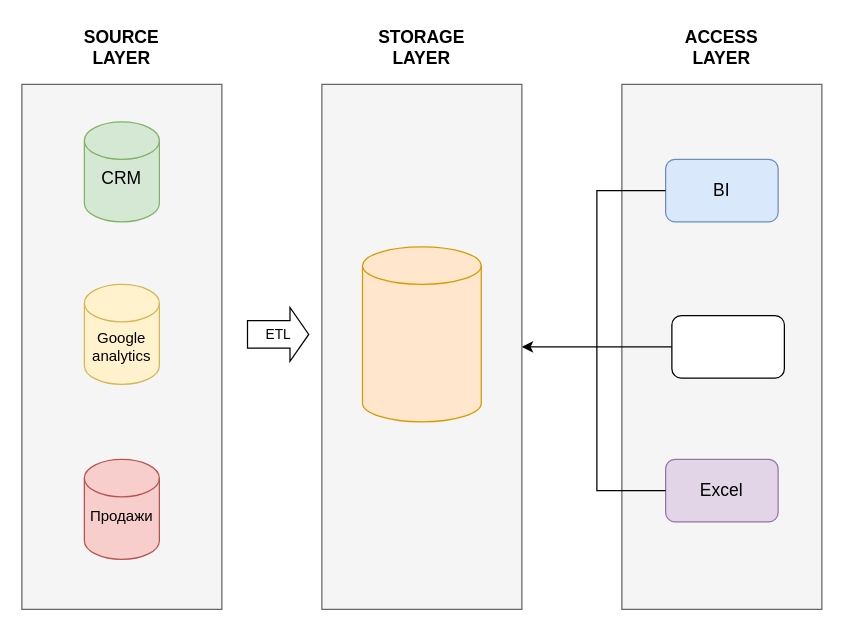
Image size: 844x631. Some labels were removed from this diagram. The shapes that lost their labels are listed below. From the top down, each one's centre as x and y in pixels, then its label:
pixel 421 334: Хранилище данных
pixel 727 346: SQL
